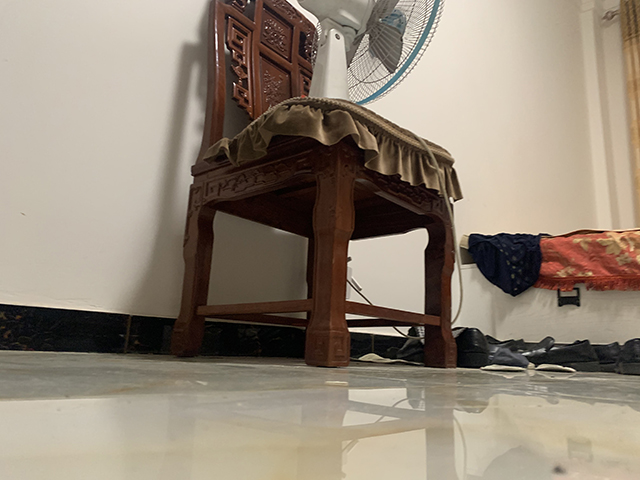bed: (455, 228, 640, 348)
stool: (170, 1, 463, 369)
